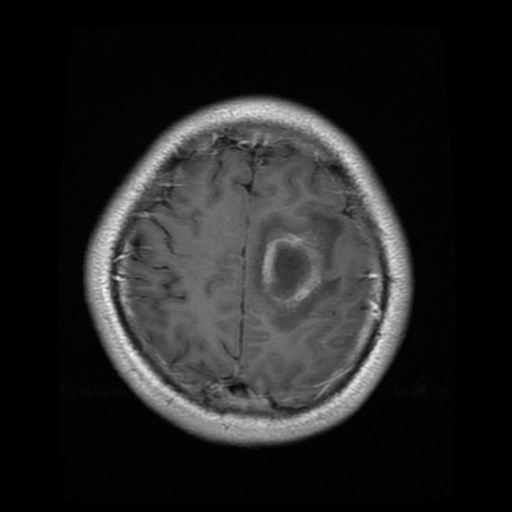glioma: (255, 213, 341, 331)
